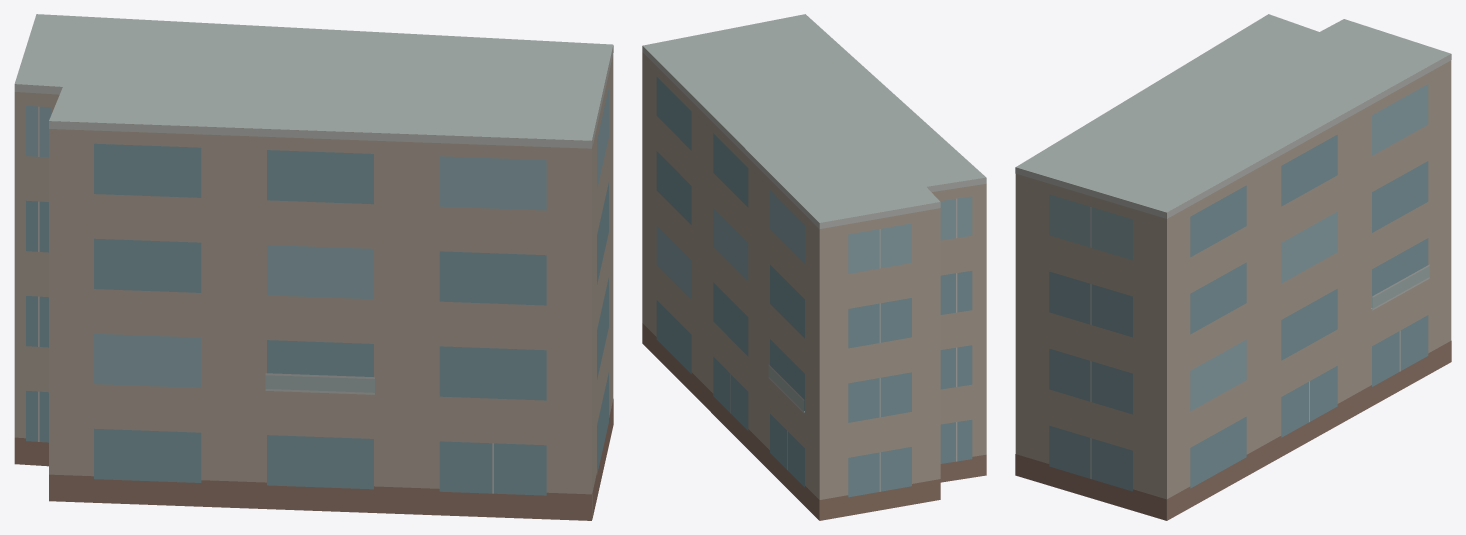
Rendered from survey-upis-32723846.glb.
3 renders of one model, left to right at view 1: azimuth 30°, elevation 25°; view 2: azimuth 150°, elevation 25°; view 3: azimuth 270°, elevation 25°, orthographic. The views are drawn at different scales.
Parts seen in each view (by area): view 1: survey-upis-32723846.tmp; view 2: survey-upis-32723846.tmp; view 3: survey-upis-32723846.tmp.
Part boxes in pixels (<box>): survey-upis-32723846.tmp: <box>14,14,613,520</box>; survey-upis-32723846.tmp: <box>642,14,986,520</box>; survey-upis-32723846.tmp: <box>1015,14,1451,520</box>.
Size of the model in its own units: 16.31 by 11.8 by 15.13.
